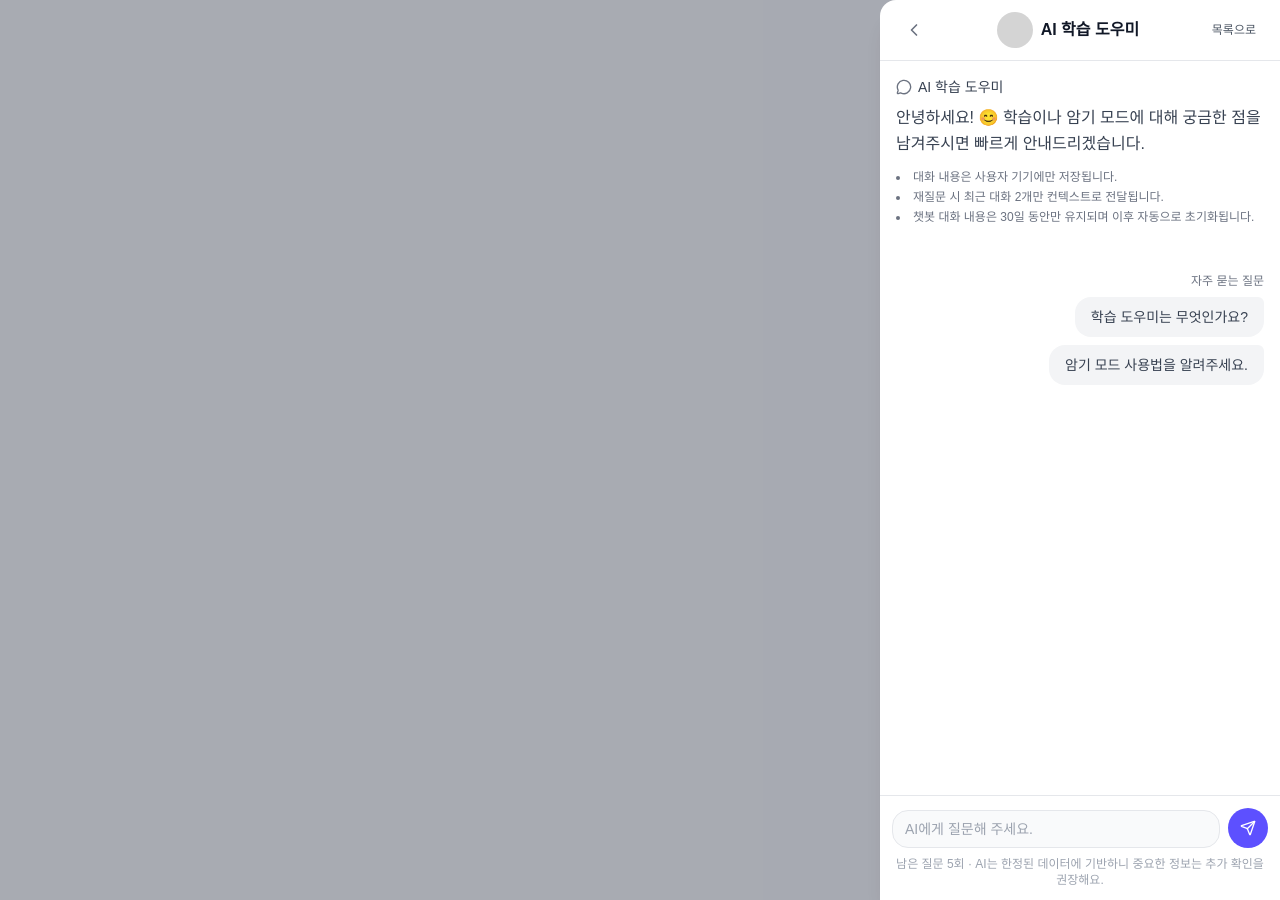
Test: ChatbotPanel › submits typed input to the chatbot API and renders the response
Type "테스트 질문" into the field named "메시지 입력" at (1056, 829), box [905, 819, 1207, 839]
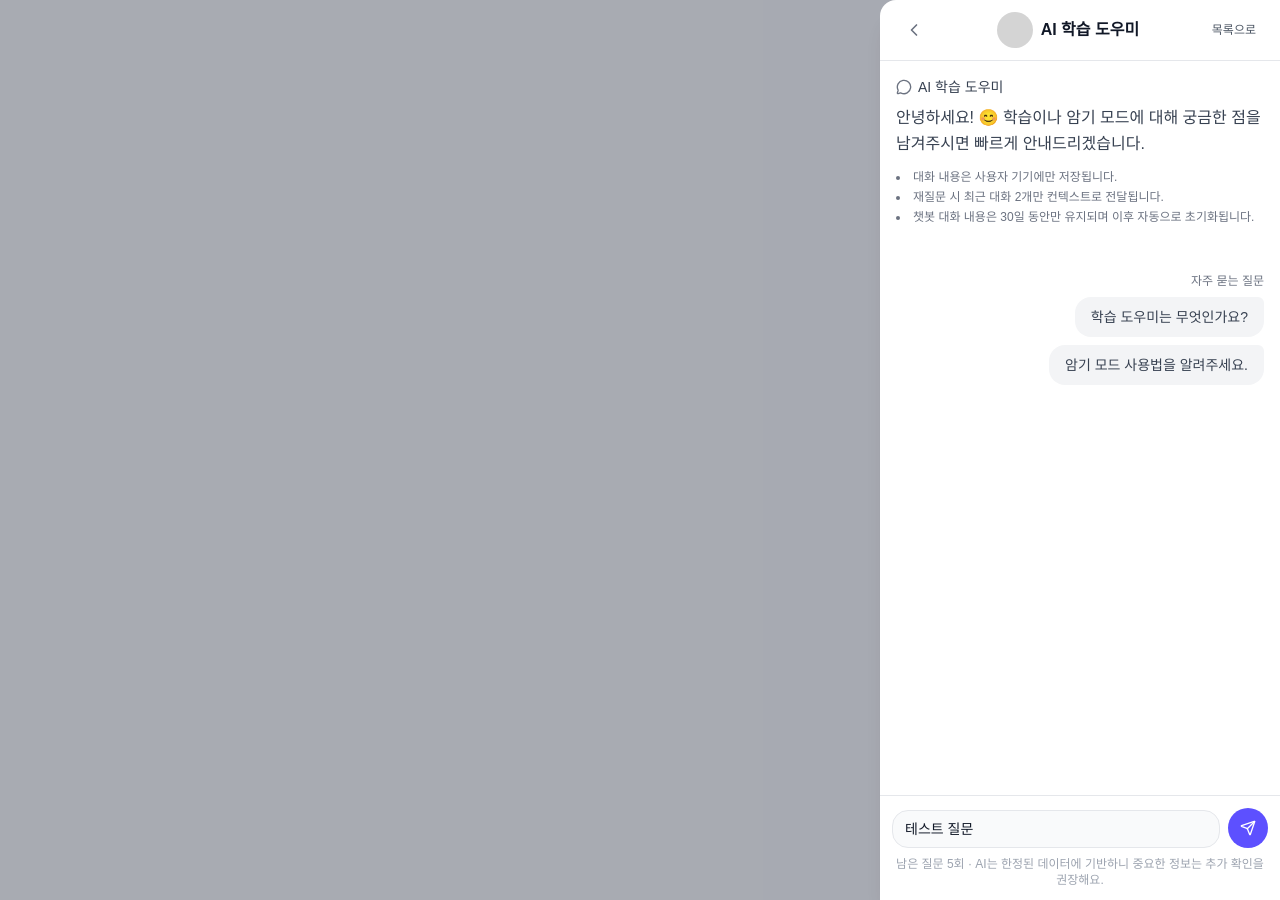
Click the button named "보내기" at (1248, 828), box [1228, 808, 1268, 848]
Wait 1000 ms
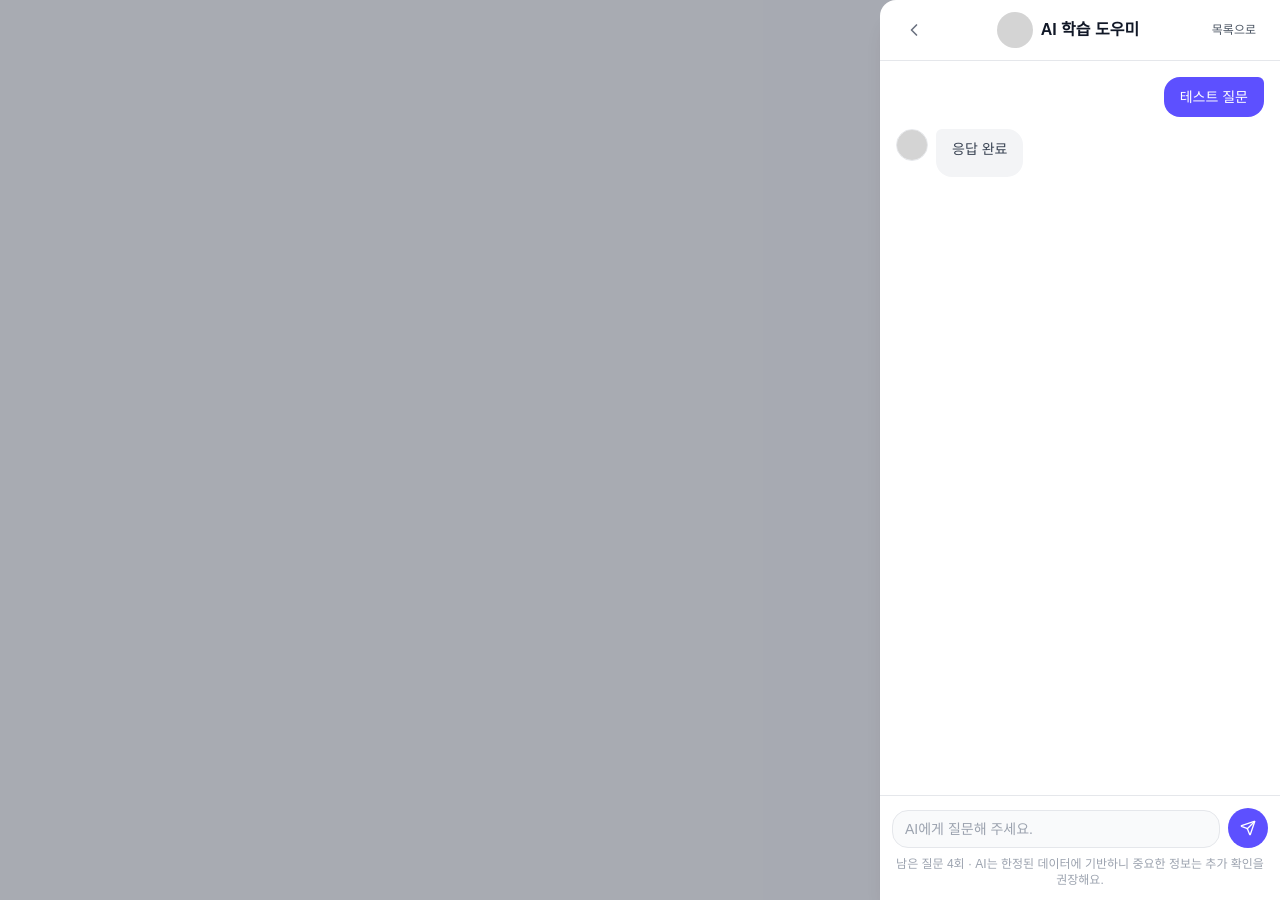
Now the text "응답 완료" is shown, box [952, 139, 1007, 159]
